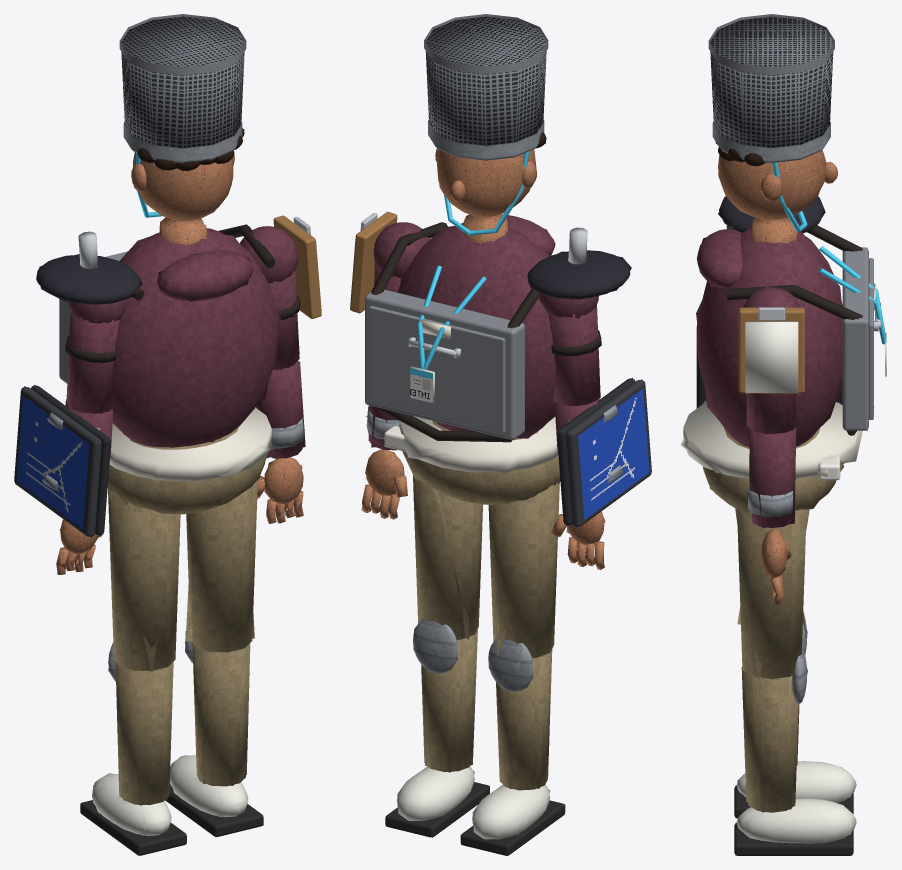
Rendered from c_intern_b.glb.
The picture shows the model from 3 angles, left to right: view 1: azimuth 30°, elevation 25°; view 2: azimuth 150°, elevation 25°; view 3: azimuth 270°, elevation 25°; orthographic projection.
Parts seen in each view (by area): view 1: part_spine, part_head, part_head__lod, part_legL, part_foreL, part_kneeR, part_legR, part_body, part_kneeL, part_armL, part_spine__lod, part_arm (+9 smaller); view 2: part_spine, part_head, part_head__lod, part_kneeL, part_kneeR, part_foreL, part_legL, part_legR, part_body, part_armL, part_arm, part_spine__lod (+8 smaller); view 3: part_spine, part_head, part_kneeR, part_head__lod, part_legR, part_arm, part_body, part_foreR, part_spine__lod, part_kneeR__lod, part_kneeL, part_handR (+6 smaller).
Part boxes in pixels (x1,y1,x2,y2): part_spine: [59, 217, 278, 447]; part_head: [119, 14, 246, 220]; part_head__lod: [119, 14, 246, 221]; part_legL: [108, 489, 180, 671]; part_foreL: [14, 385, 113, 536]; part_kneeR: [165, 636, 263, 836]; part_legR: [186, 480, 257, 652]; part_body: [107, 407, 271, 514]; part_kneeL: [80, 643, 186, 855]; part_armL: [36, 231, 140, 413]; part_spine__lod: [59, 218, 280, 441]; part_arm: [240, 215, 321, 369]; part_spine: [365, 214, 555, 442]; part_head: [424, 14, 548, 235]; part_head__lod: [424, 14, 547, 234]; part_kneeL: [460, 639, 565, 855]; part_kneeR: [385, 619, 489, 837]; part_foreL: [554, 378, 651, 526]; part_legL: [488, 482, 559, 658]; part_legR: [413, 475, 482, 639]; part_body: [384, 416, 560, 504]; part_armL: [527, 227, 630, 406]; part_arm: [350, 212, 430, 313]; part_spine__lod: [365, 216, 555, 441]; part_spine: [696, 217, 886, 447]; part_head: [708, 14, 837, 232]; part_kneeR: [734, 647, 856, 855]; part_head__lod: [708, 14, 837, 232]; part_legR: [737, 508, 806, 679]; part_arm: [738, 287, 804, 434]; part_body: [683, 402, 858, 510]; part_foreR: [748, 429, 795, 527]; part_spine__lod: [696, 219, 885, 440]; part_kneeR__lod: [735, 656, 856, 855]; part_kneeL: [734, 613, 856, 817]; part_handR: [761, 529, 791, 605].
Size of the model in its own units: 0.6923 by 1.96 by 0.4691.
24 materials, 7 textured.
